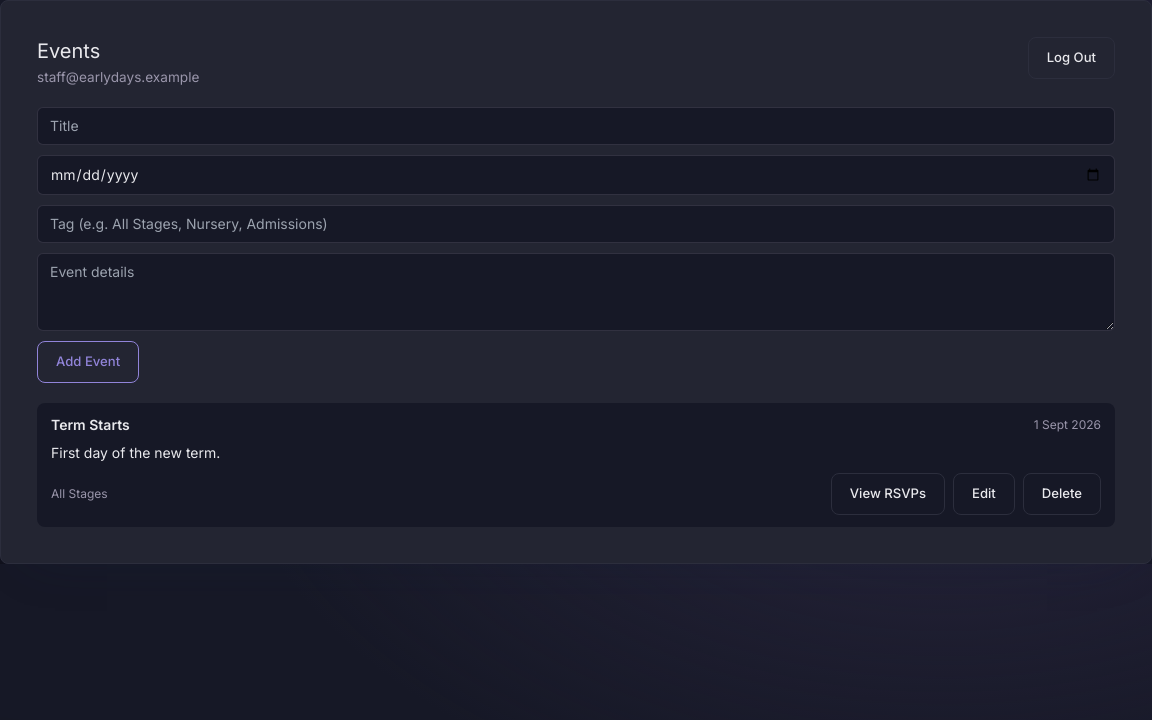
Test: AdminEventsPanel › edits an event's title and updates the list in place
The width and height of the screenshot is (1152, 720).
Click the button "Edit". click: (984, 494)
box: [953,473,1015,515]
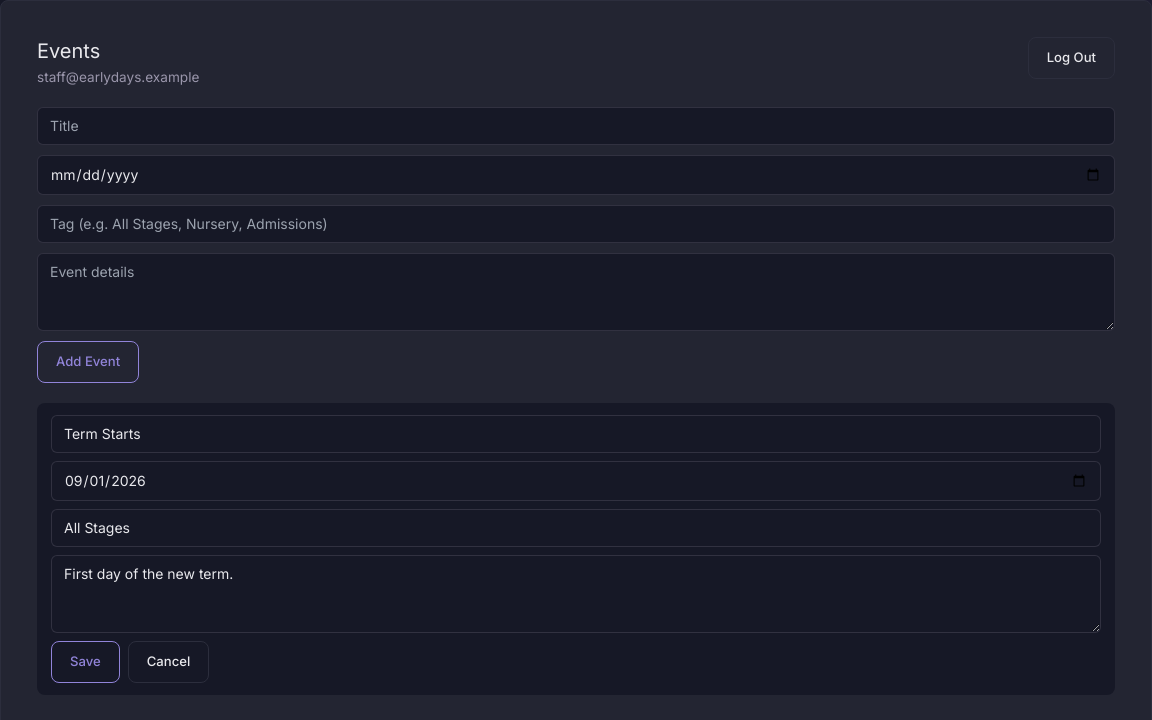
Replace the text in the 1st field with placeholder "Title" with "Term Starts (Rescheduled)". click: (576, 434)
box: [51,415,1101,453]
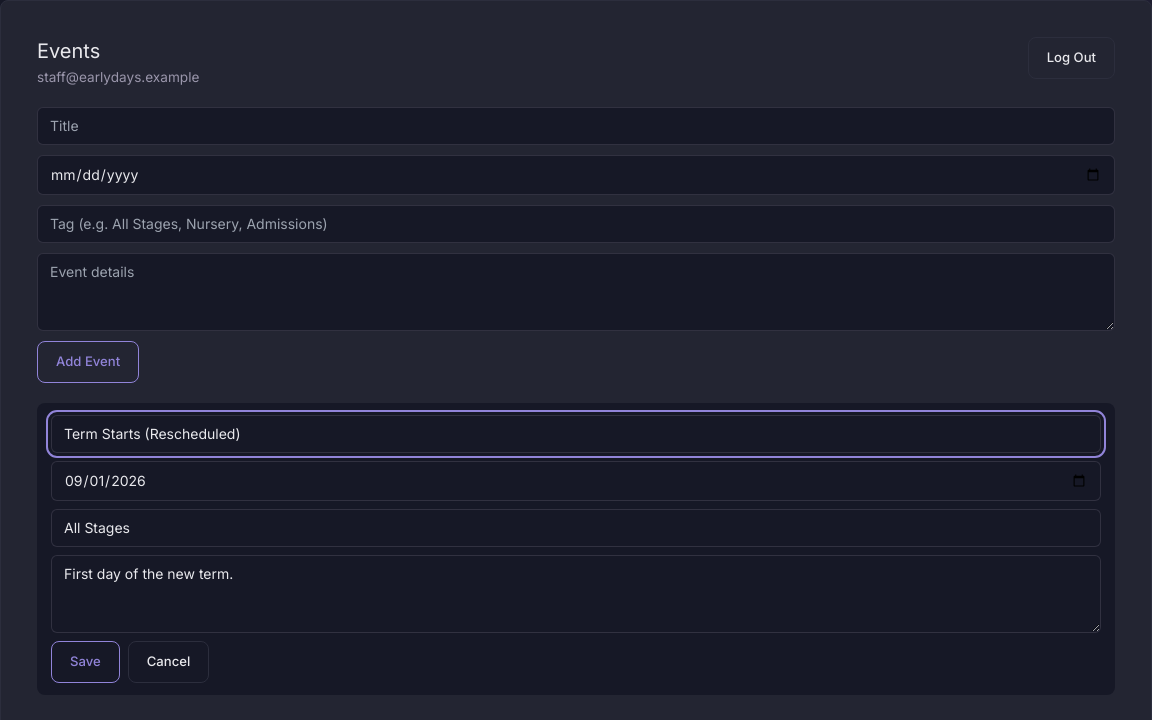
Click the button "Save". click: (85, 662)
box: [51,641,120,683]
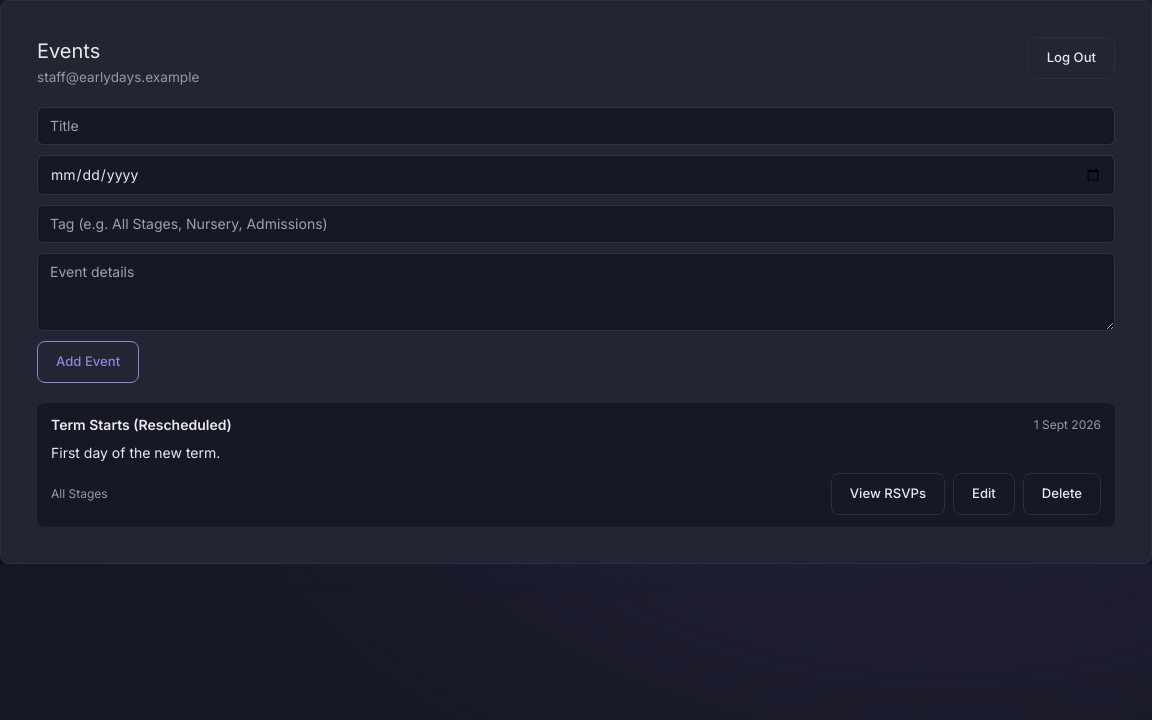
Expected: the button "Save" is gone
Expected: the text "Term Starts (Rescheduled)" is shown, [51,415,232,435]
